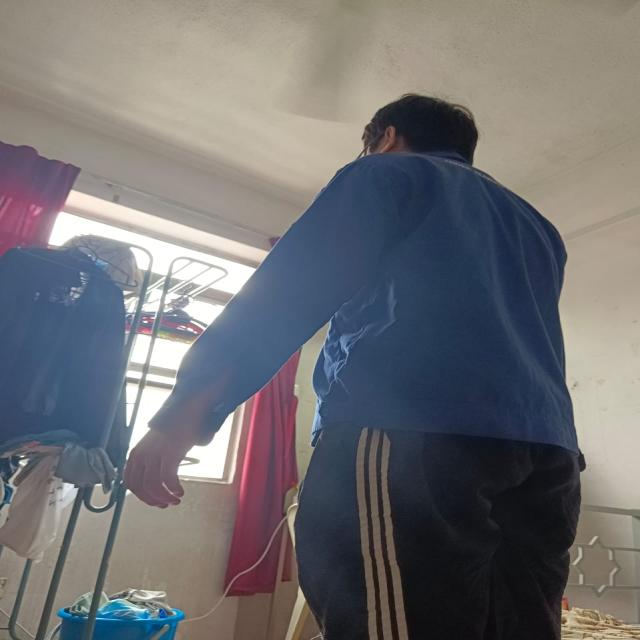person_with_labcoat: (125, 94, 585, 640)
